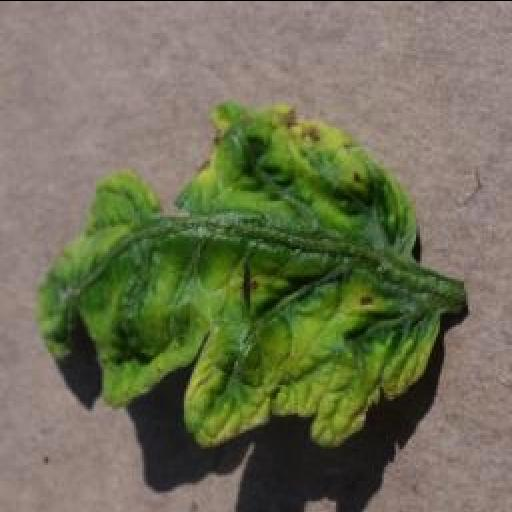disease_tomato: (42, 100, 436, 446)
